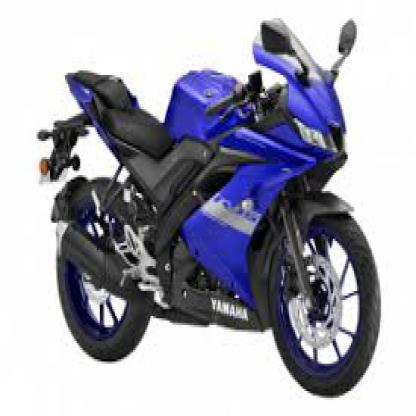Motorcycle: (33, 7, 384, 400)
